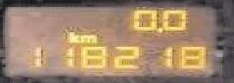-: (154, 25, 158, 30)
0: (160, 9, 185, 29), (132, 9, 154, 30)
1: (29, 43, 43, 68), (65, 46, 72, 67), (163, 44, 169, 67)
2: (112, 44, 136, 68)
8: (176, 43, 205, 69), (78, 45, 105, 68)
X: (78, 32, 96, 43), (61, 31, 79, 42)
